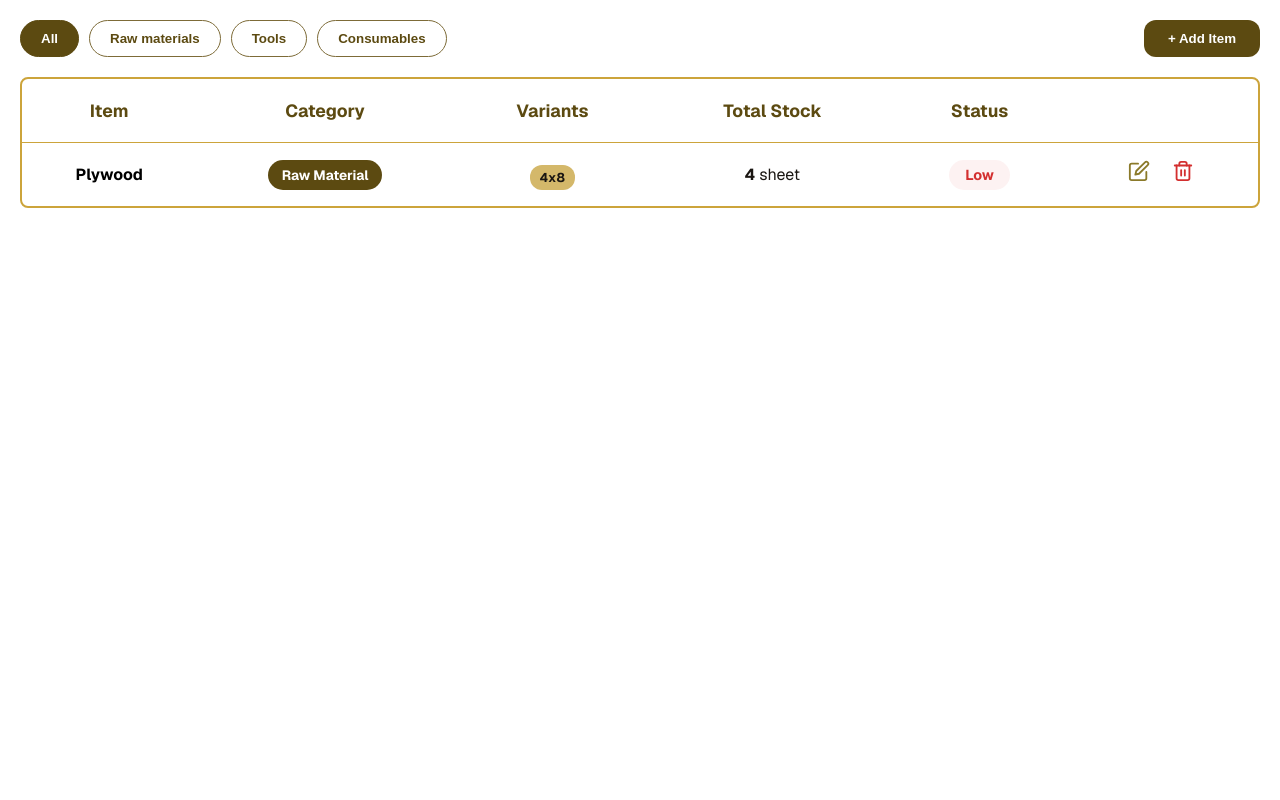
Scenario: InventoryTable › edit/delete/category filter › delete: opens a confirm dialog naming the item, and Cancel does nothing
Expected: the text "Plywood" is shown, [22,142,196,206]
Click the button with class "delete-btn": (1184,174) [1166,159,1200,188]
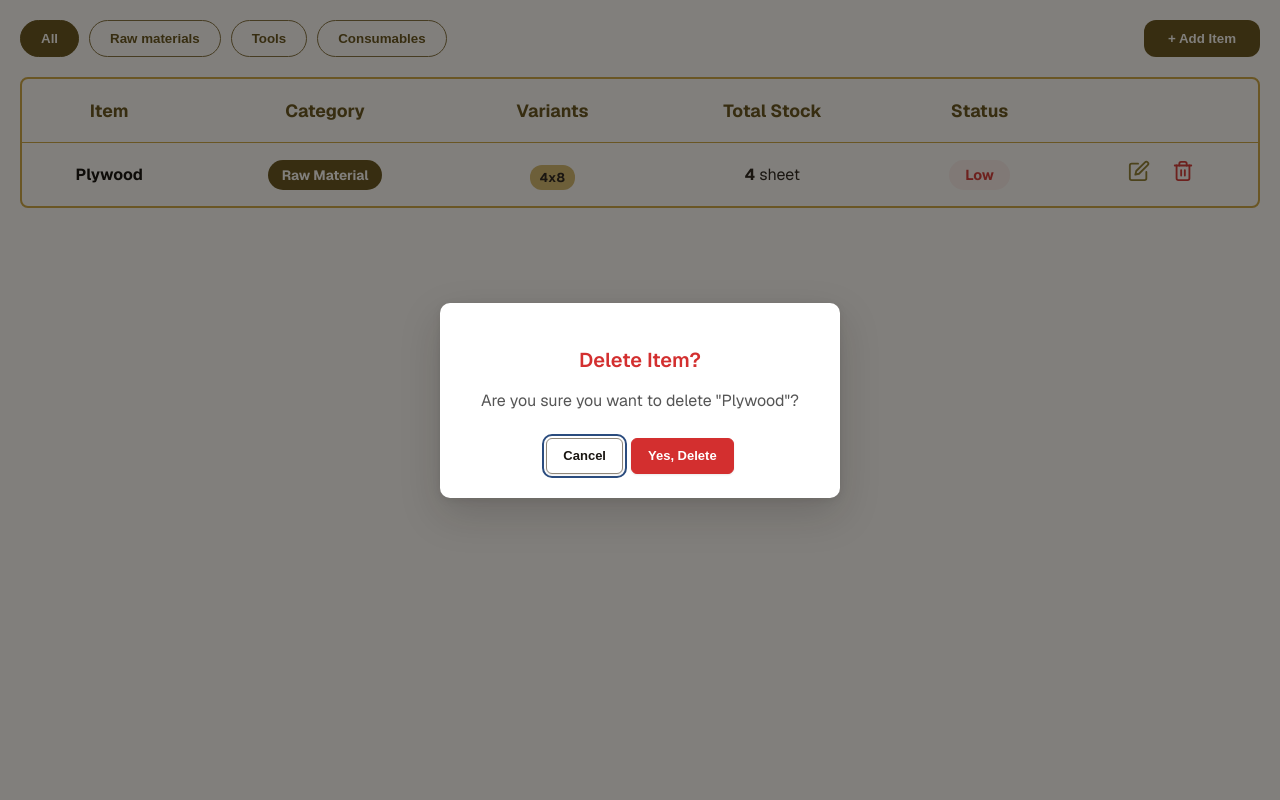
Expected: the dialog shows "Plywood", [481,390,799,410]
Click the button "Cancel": (585,456) [546,438,623,474]
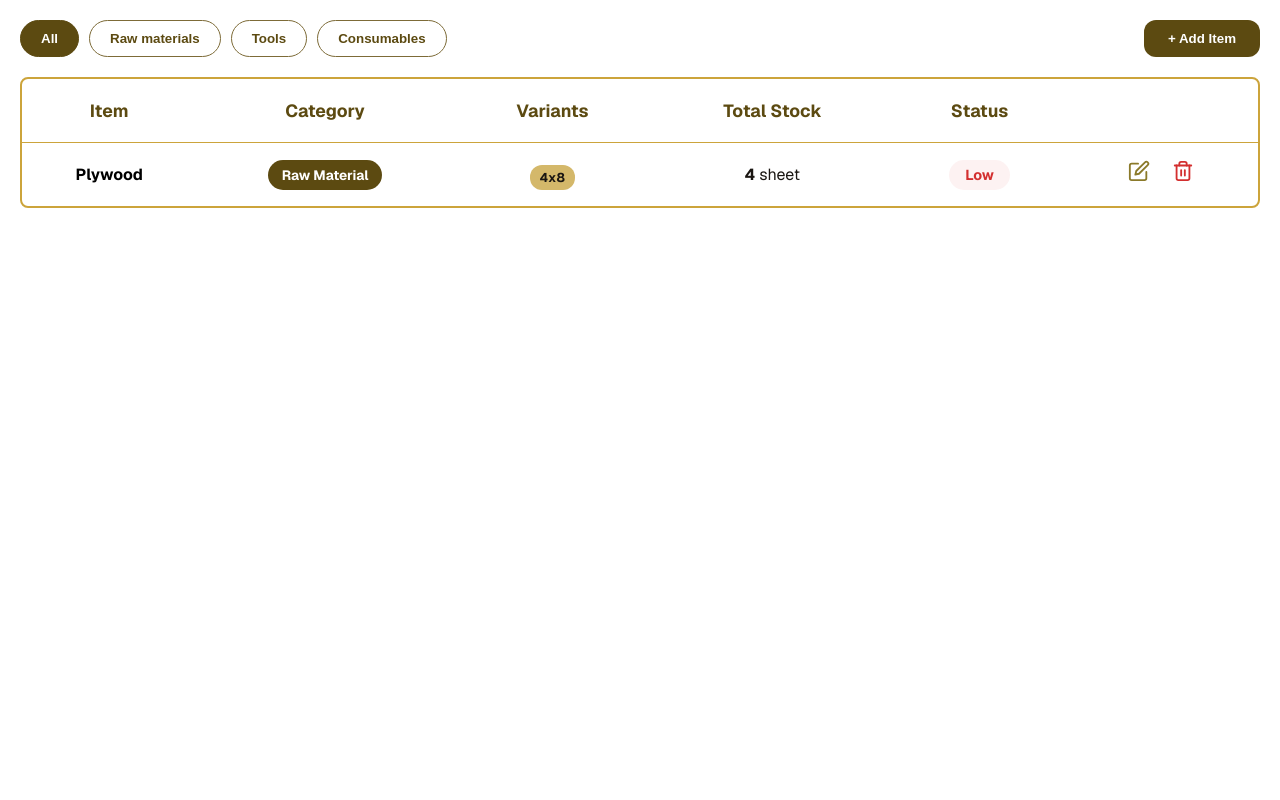
Expected: the dialog is gone
